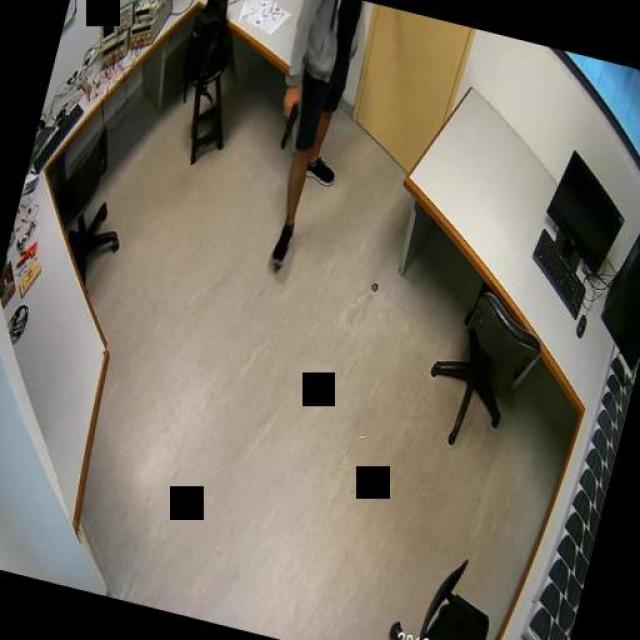gun: (271, 99, 300, 149)
